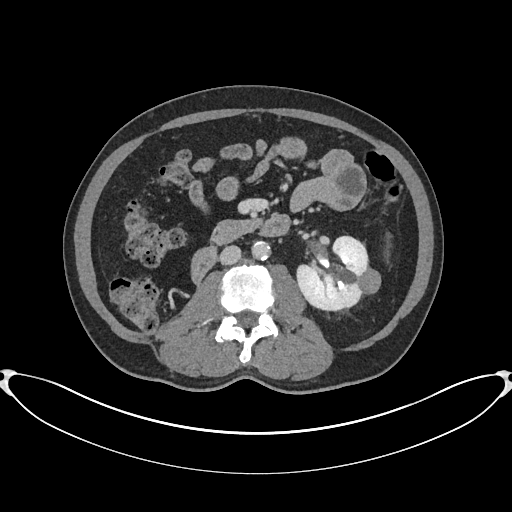Lesion: (357, 266, 383, 300)
